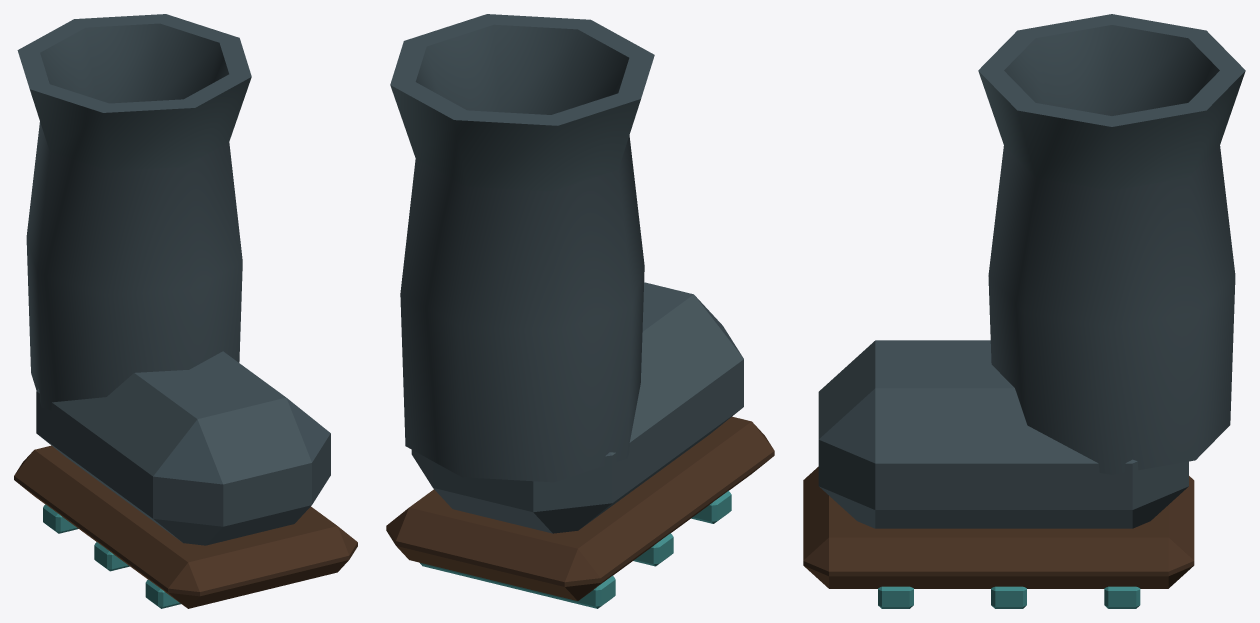
Rendered from wearable_deck_boots_a.glb.
3 views of the same model, side by side, from view 1: azimuth 30°, elevation 25°; view 2: azimuth 150°, elevation 25°; view 3: azimuth 270°, elevation 25° (orthographic). The views are drawn at different scales.
Parts seen in each view (by area): view 1: left_boot_foot, left_boot_sole, left_deck_tread_0; view 2: left_boot_foot, left_boot_sole, left_deck_tread_0; view 3: left_boot_foot, left_boot_sole, left_deck_tread_0.
Boxes of the visible parts, <box> form: left_boot_foot: <box>17,14,330,545</box>; left_boot_sole: <box>14,445,357,608</box>; left_deck_tread_0: <box>43,504,180,608</box>; left_boot_foot: <box>390,14,743,533</box>; left_boot_sole: <box>386,416,774,600</box>; left_deck_tread_0: <box>420,490,731,608</box>; left_boot_foot: <box>818,14,1245,528</box>; left_boot_sole: <box>803,466,1194,588</box>; left_deck_tread_0: <box>878,586,1140,608</box>.
Bounding box in the file's own units: 0.26 × 0.5325 × 0.43.
